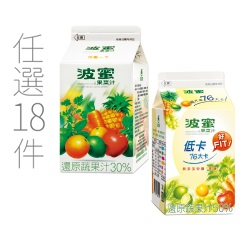vegetables juice: (56, 45, 147, 176)
